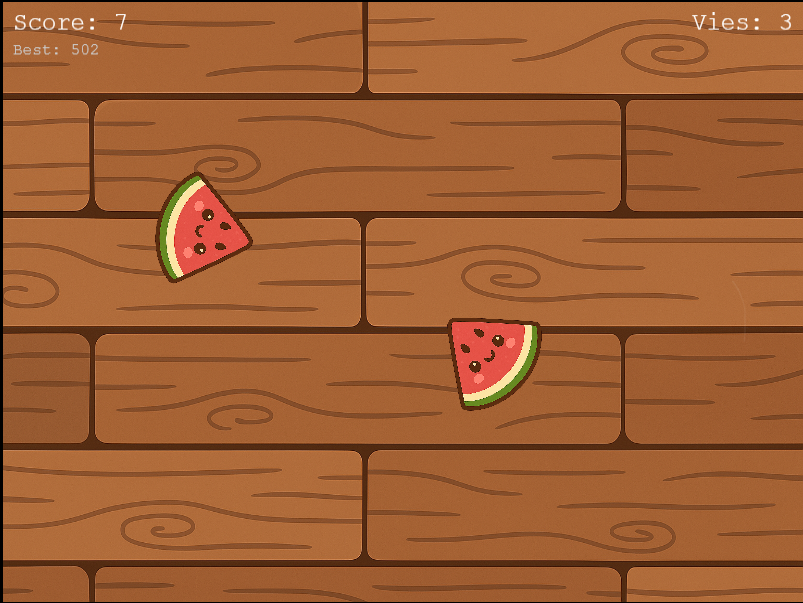fruit: (145, 170, 265, 286), (437, 311, 552, 415)
